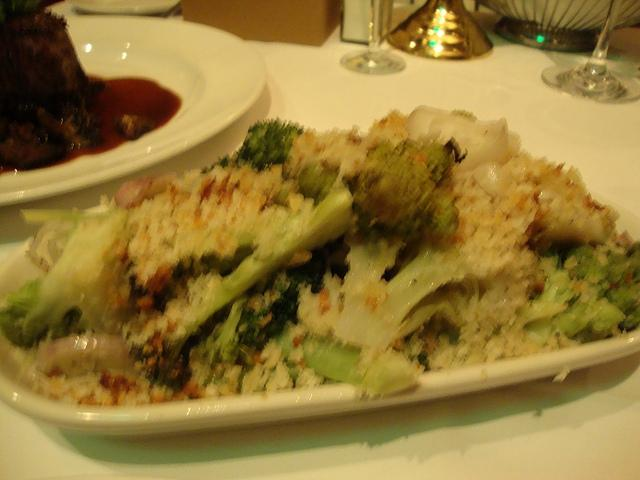broccoli: (120, 186, 357, 394), (299, 139, 470, 353), (0, 211, 136, 348), (553, 238, 640, 338), (510, 252, 590, 333), (274, 320, 363, 386), (196, 294, 248, 387), (235, 117, 305, 173), (234, 290, 280, 348), (298, 160, 338, 206)
